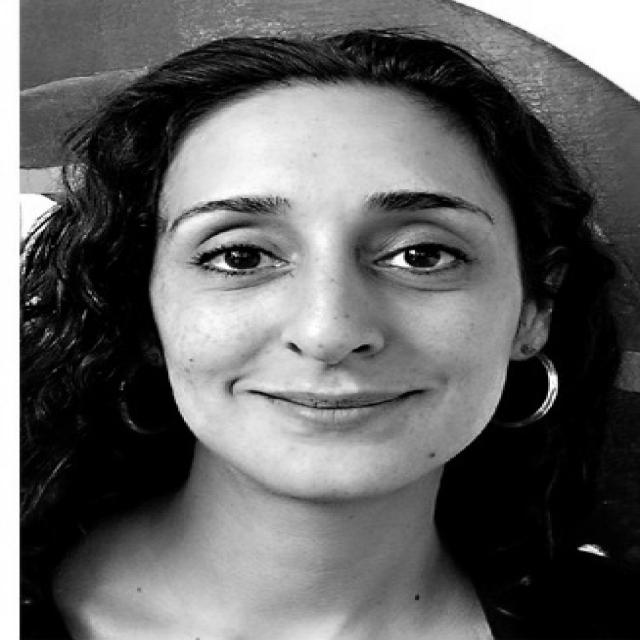without_mask: (88, 52, 599, 517)
